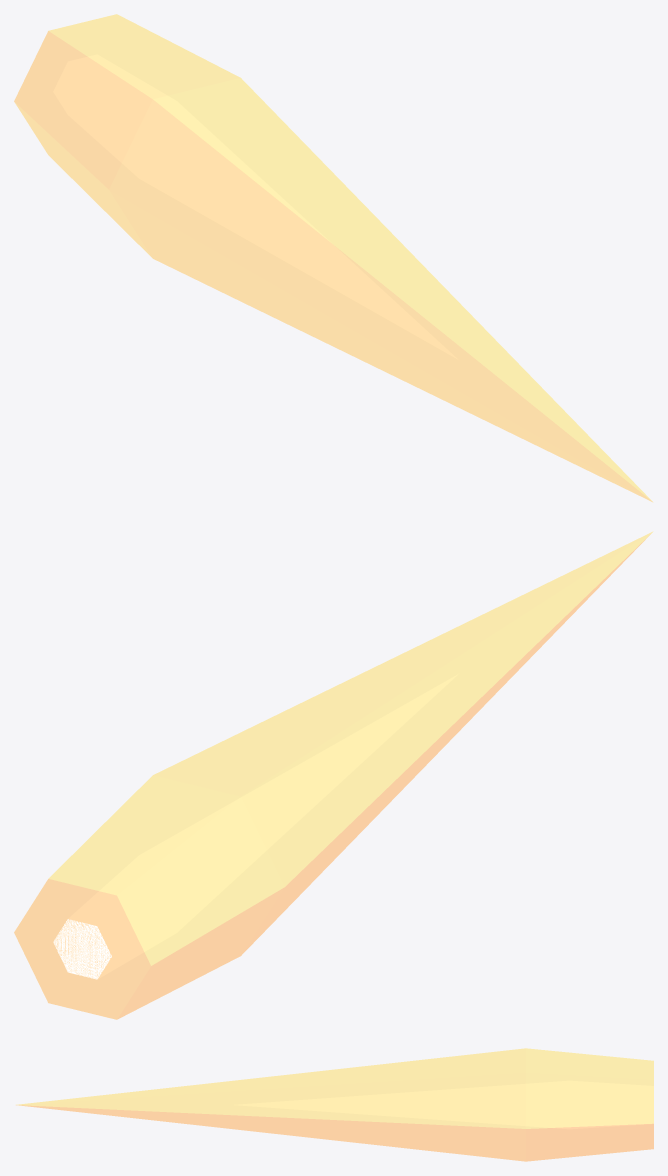
The model's file is classic-boost.glb.
The picture shows the model from 3 angles, top to bottom: view 1: azimuth 30°, elevation 25°; view 2: azimuth 150°, elevation 25°; view 3: azimuth 270°, elevation 25°; orthographic projection. The views are drawn at different scales.
Parts seen in each view (by area): view 1: classic plume 0; view 2: classic plume 0; view 3: classic plume 0.
Boxes of the visible parts, left/top/right/bottom form: classic plume 0: left=14, top=14, right=652, bottom=501; classic plume 0: left=14, top=532, right=652, bottom=1019; classic plume 0: left=18, top=1048, right=653, bottom=1161.
Size of the model in its own units: 0.32 by 0.2771 by 1.8.
